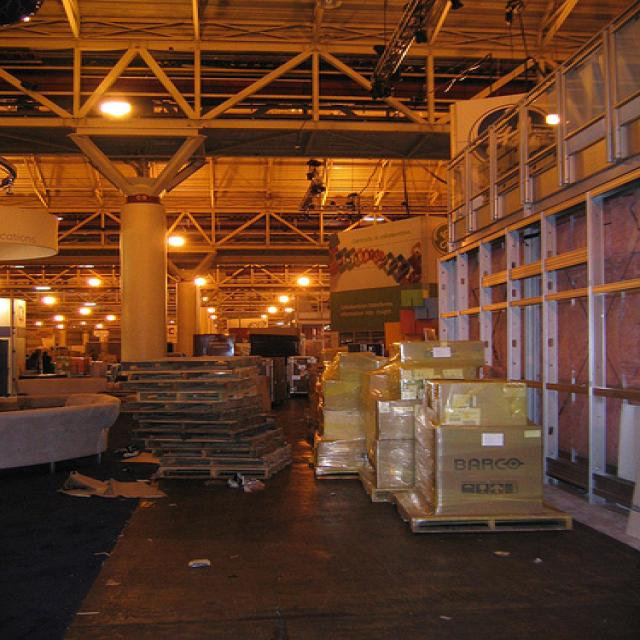box: (428, 421, 539, 515), (428, 377, 530, 417), (401, 342, 491, 369), (376, 444, 422, 488), (329, 365, 374, 404), (316, 442, 360, 470)
